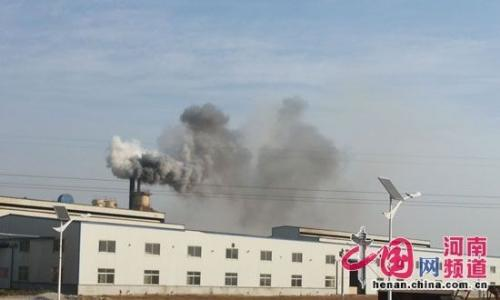smoke: (106, 102, 274, 196)
